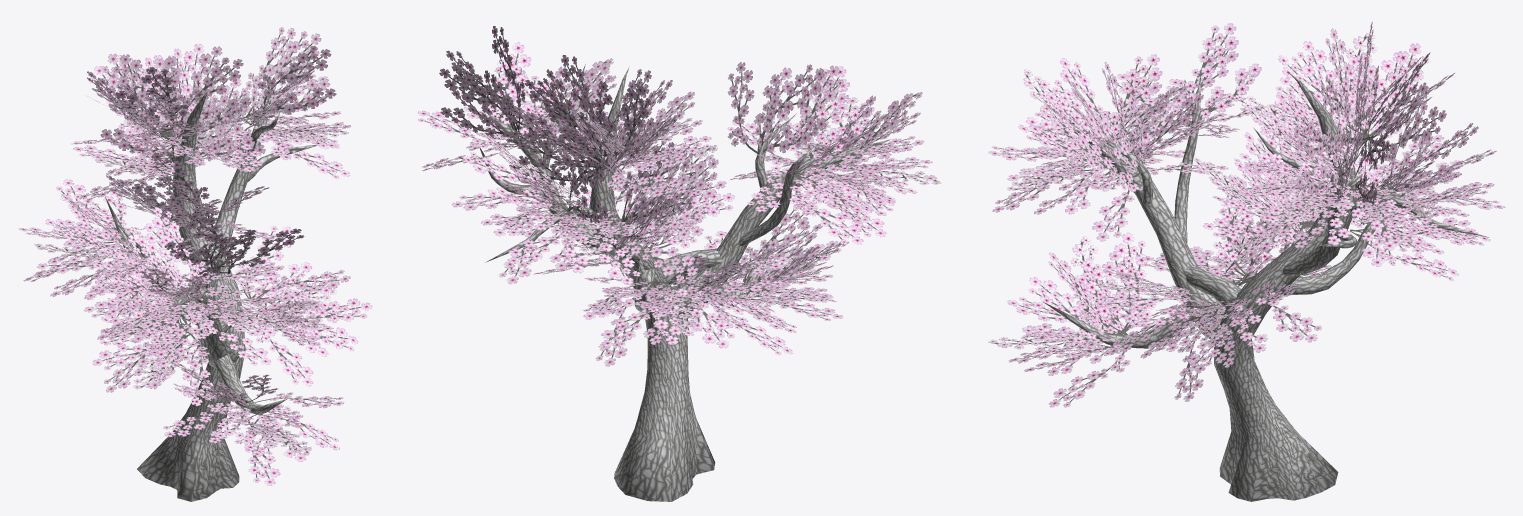
Rendered from arvore.glb.
3 views of the same model, side by side, from view 1: azimuth 30°, elevation 25°; view 2: azimuth 150°, elevation 25°; view 3: azimuth 270°, elevation 25° (orthographic). The views are drawn at different scales.
Parts seen in each view (by area): view 1: Object_2, Object_3; view 2: Object_2, Object_3; view 3: Object_2, Object_3.
Part boxes in pixels (left/top/right/bottom): Object_2: left=18, top=27, right=372, bottom=485; Object_3: left=105, top=91, right=316, bottom=501; Object_2: left=418, top=26, right=940, bottom=366; Object_3: left=479, top=64, right=891, bottom=501; Object_2: left=988, top=21, right=1505, bottom=407; Object_3: left=1042, top=72, right=1488, bottom=501.
Bounding box in the file's own units: 23.87 × 25.74 × 26.46.
Materials: 2 (2 with a texture image).
